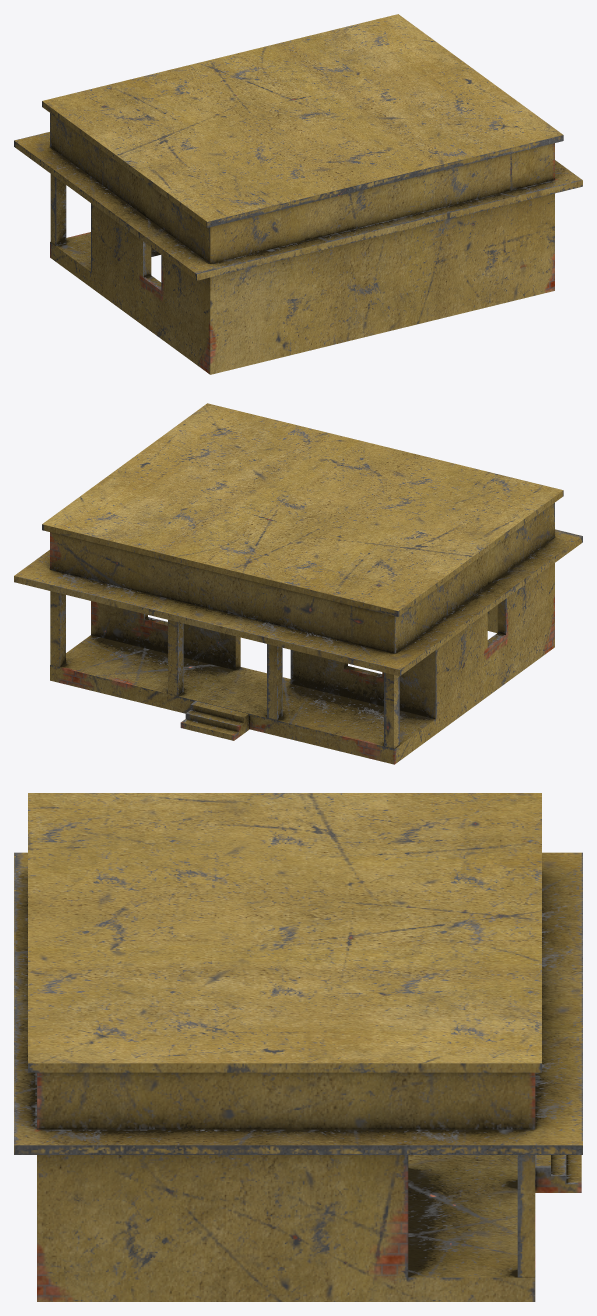
The model's file is town_building.glb.
3 renders of one model, top to bottom at view 1: azimuth 30°, elevation 25°; view 2: azimuth 150°, elevation 25°; view 3: azimuth 270°, elevation 25°, orthographic. The views are drawn at different scales.
Parts seen in each view (by area): view 1: building_002.001; view 2: building_002.001; view 3: building_002.001.
Part boxes in pixels (left/top/right/bottom): building_002.001: left=14, top=14, right=582, bottom=374; building_002.001: left=14, top=403, right=582, bottom=764; building_002.001: left=14, top=793, right=582, bottom=1301.
Bounding box in the file's own units: 8.97 × 3.49 × 7.37.
Materials: 1 (1 with a texture image).
